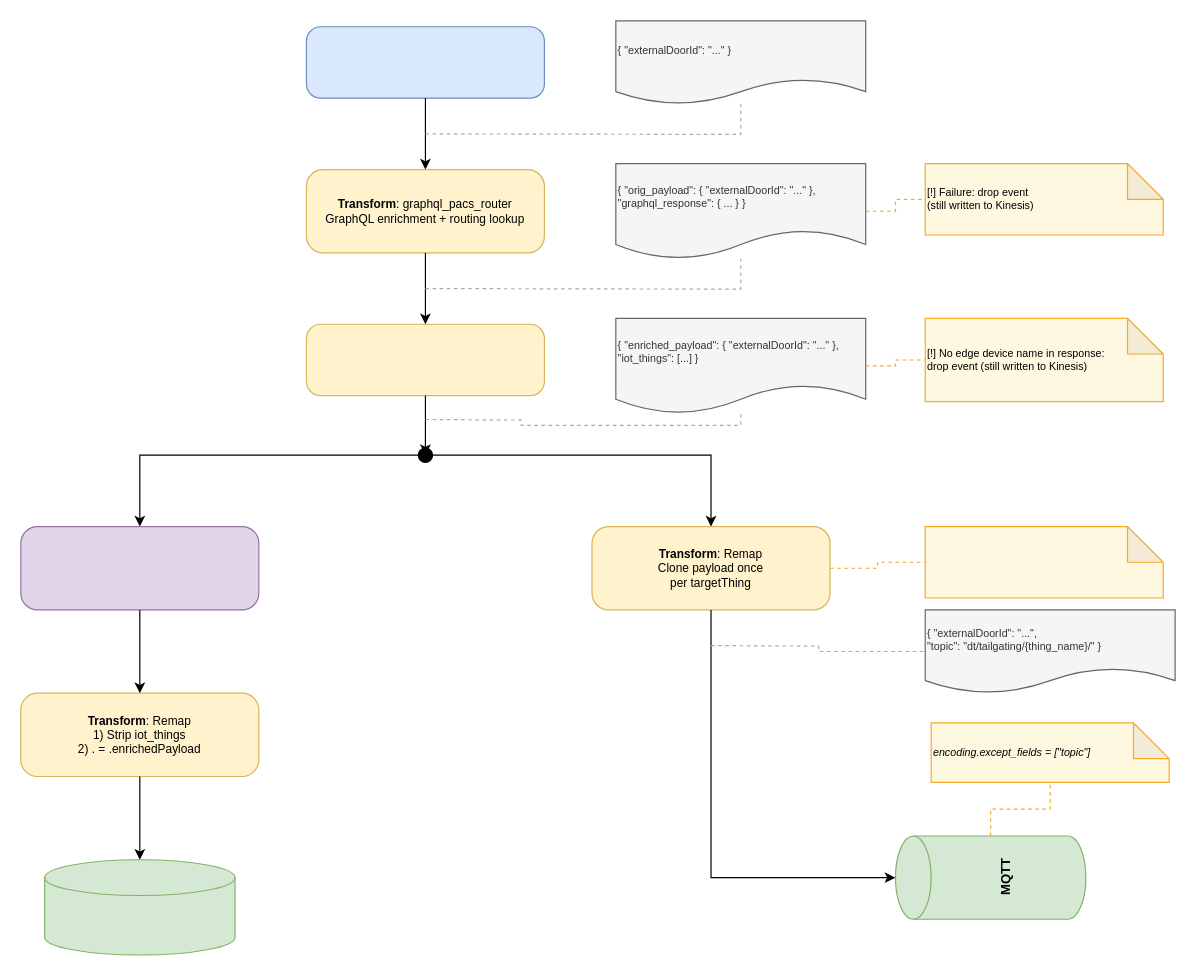
Some shapes in this 1196 by 976 pixel diagram are drawn without their labels. Here are the shapes that lost their labels. From the top down, the box of each, then its label:
(305, 26, 544, 98): Kinesis Source PACS Events
(305, 323, 544, 396): Transform : Remap Normalize and extract fields
(20, 525, 259, 610): Filter iot_things is empty OR includes my thing name
(924, 525, 1163, 598): Create list of unique targetThings + enrichment (in mqtt-forwarder)
(43, 859, 235, 955): InfluxDB
